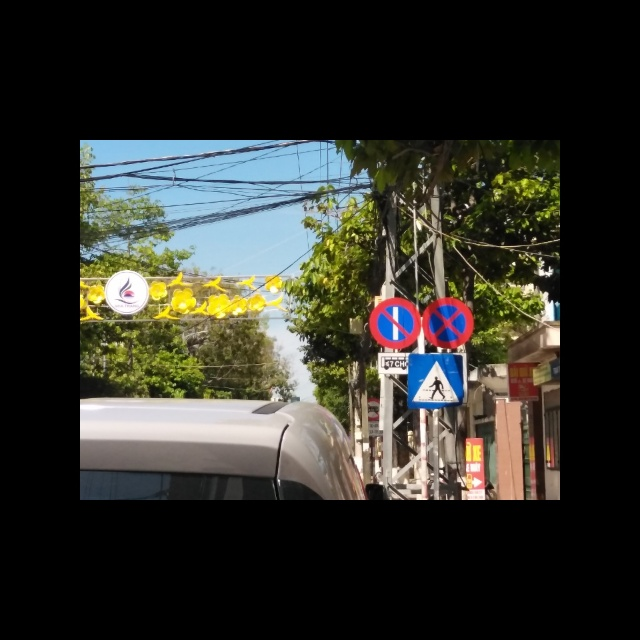Cấm dừng xe và đỗ xe: (422, 297, 475, 347)
Cấm đỗ xe ngày lẻ: (367, 297, 422, 349)
Đường dành cho người đi bộ: (407, 353, 465, 408)
